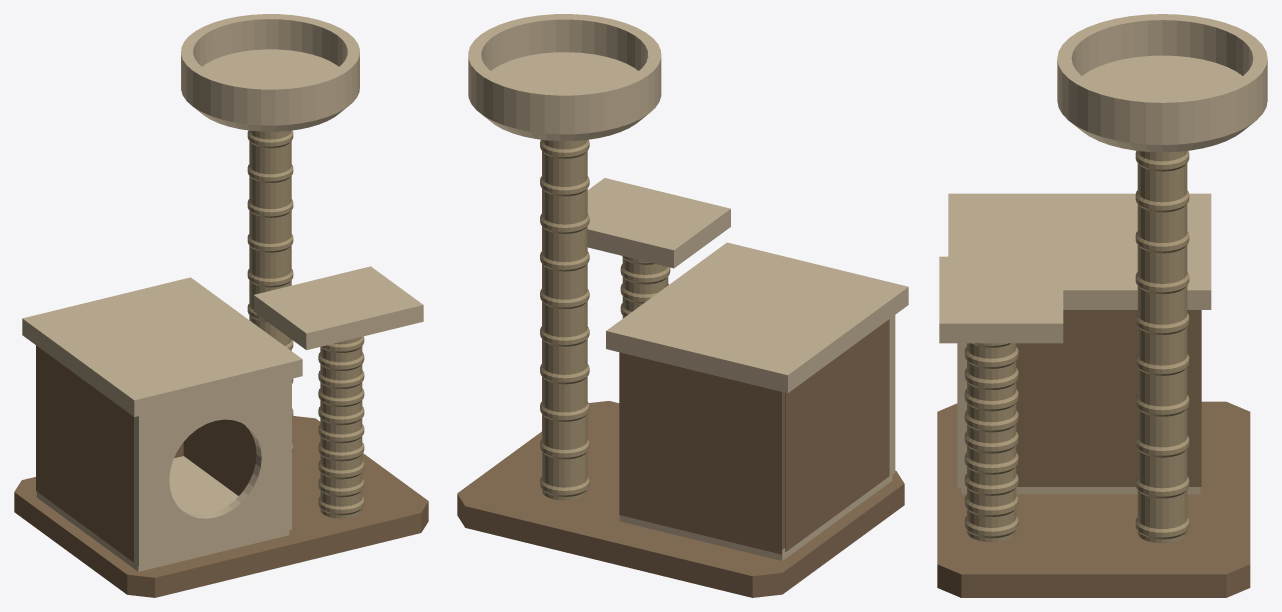
3 views of the same model, side by side, from view 1: azimuth 30°, elevation 25°; view 2: azimuth 150°, elevation 25°; view 3: azimuth 270°, elevation 25° (orthographic). The views are drawn at different scales.
Visible parts, largest first — view 1: WholeCubbyRoofLanding, WholeChamferedGroundPlinth, WholeThickOpenUpperRestingBowl, WholeThickCircularEntryFront, WholeCubbyLeft, WholeOffsetMiddleStep, WholeShortRidgedFrontPost, WholeTallRidgedRearPost, WholeCubbyFloor, WholeCubbyRight; view 2: WholeCubbyRear, WholeCubbyRoofLanding, WholeChamferedGroundPlinth, WholeThickOpenUpperRestingBowl, WholeTallRidgedRearPost, WholeCubbyLeft, WholeOffsetMiddleStep, WholeShortRidgedFrontPost, WholeCubbyFloor, WholeThickCircularEntryFront; view 3: WholeChamferedGroundPlinth, WholeThickOpenUpperRestingBowl, WholeCubbyRight, WholeTallRidgedRearPost, WholeCubbyRoofLanding, WholeOffsetMiddleStep, WholeShortRidgedFrontPost, WholeCubbyRear, WholeThickCircularEntryFront, WholeCubbyFloor.
Boxes of the visible parts, x1,y1,x2,y2 form: WholeCubbyRoofLanding: (22,277,302,416); WholeChamferedGroundPlinth: (14,416,428,597); WholeThickOpenUpperRestingBowl: (181,14,359,131); WholeThickCircularEntryFront: (134,379,291,566); WholeCubbyLeft: (39,347,133,562); WholeOffsetMiddleStep: (253,266,423,350); WholeShortRidgedFrontPost: (318,336,364,518); WholeTallRidgedRearPost: (247,130,293,452); WholeCubbyFloor: (36,456,289,571); WholeCubbyRight: (183,419,256,495); WholeCubbyRear: (619,352,785,554); WholeCubbyRoofLanding: (606,242,908,393); WholeChamferedGroundPlinth: (457,401,904,597); WholeThickOpenUpperRestingBowl: (468,14,661,141); WholeTallRidgedRearPost: (540,139,589,500); WholeCubbyLeft: (785,319,888,551); WholeOffsetMiddleStep: (587,178,730,268); WholeShortRidgedFrontPost: (620,256,670,318); WholeCubbyFloor: (619,475,892,560); WholeThickCircularEntryFront: (889,315,895,476); WholeChamferedGroundPlinth: (937,401,1250,597); WholeThickOpenUpperRestingBowl: (1057,14,1267,152); WholeCubbyRight: (1016,310,1193,486); WholeTallRidgedRearPost: (1135,150,1189,543); WholeCubbyRoofLanding: (948,193,1211,309); WholeOffsetMiddleStep: (939,256,1063,343); WholeShortRidgedFrontPost: (964,343,1018,542); WholeCubbyRear: (1193,310,1201,486); WholeThickCircularEntryFront: (957,343,966,487); WholeCubbyFloor: (961,487,1200,494).
Bounding box in the file's own units: 0.956 × 1.26 × 0.76.
